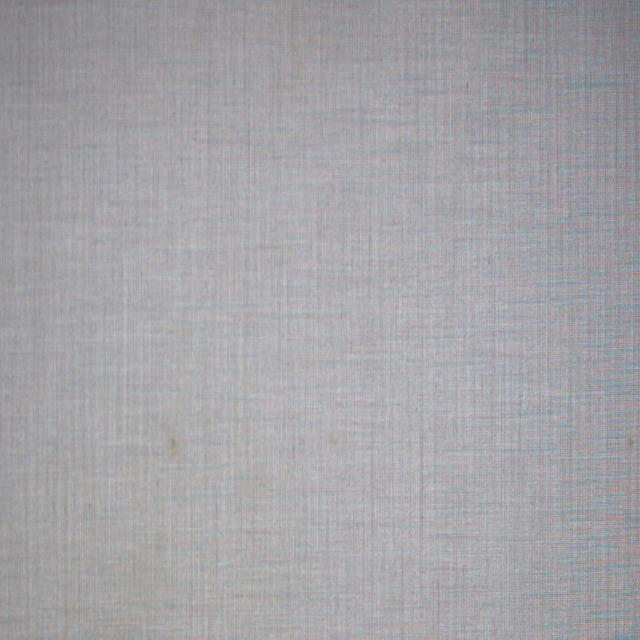dirty: (167, 434, 181, 456), (329, 432, 341, 448)
